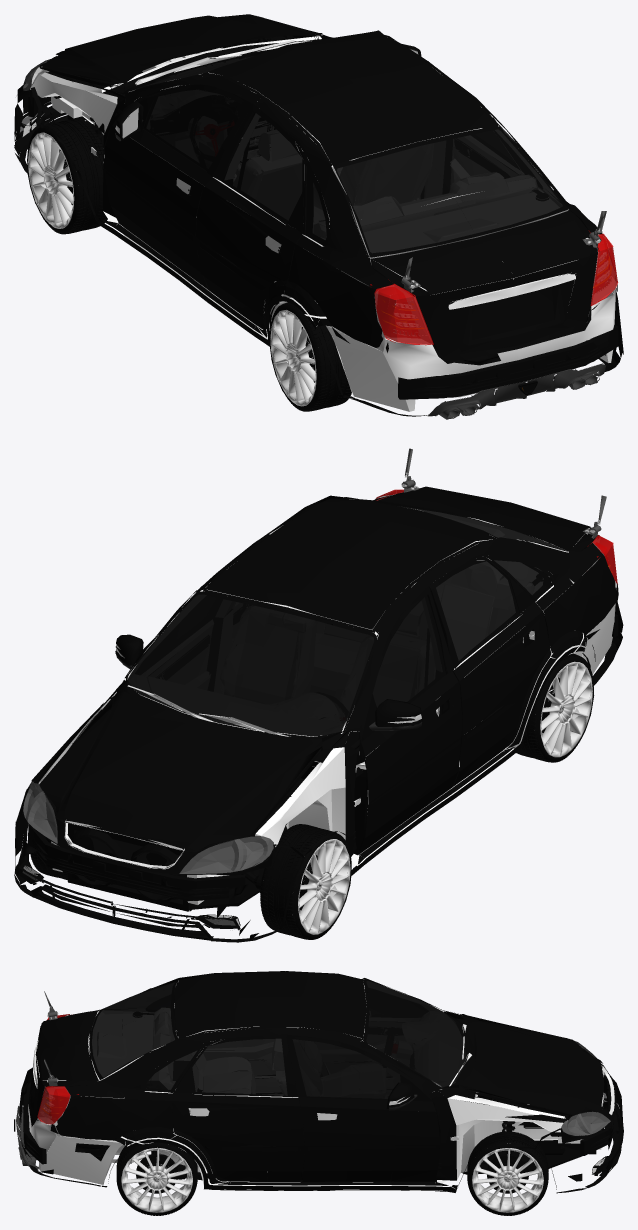
Rendered from car_gentra_low.glb.
3 views of the same model, one above another, from view 1: azimuth 30°, elevation 25°; view 2: azimuth 150°, elevation 25°; view 3: azimuth 270°, elevation 25° (orthographic). The views are drawn at different scales.
Visible parts, largest first — view 1: Body, wheel_fl, wheel_rl; view 2: Body, wheel_fl, wheel_rl; view 3: Body, wheel_fr, wheel_rr.
Boxes of the visible parts, x1,y1,x2,y2 form: Body: (14, 14, 623, 419); wheel_fl: (27, 118, 107, 234); wheel_rl: (269, 302, 351, 411); Body: (14, 448, 623, 942); wheel_fl: (260, 824, 351, 939); wheel_rl: (516, 653, 594, 762); Body: (14, 971, 623, 1193); wheel_fr: (467, 1131, 548, 1215); wheel_rr: (116, 1142, 197, 1215).
Bounding box in the file's own units: 1.88 × 1.41 × 4.52.
